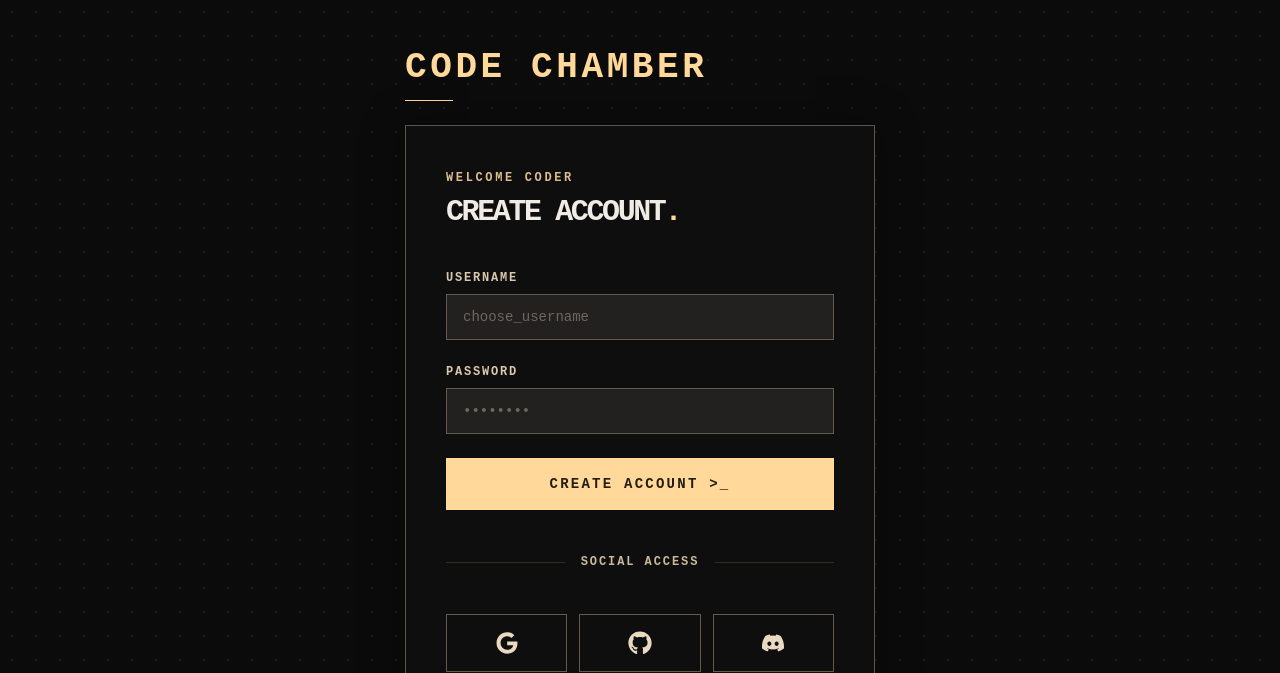
Test: Signup - manual submit › shows a fallback error message when the error has no message
The image size is (1280, 673).
Type "alice" into the field with placeholder "choose_username" at coordinates (640, 317), box [446,294,834,340]
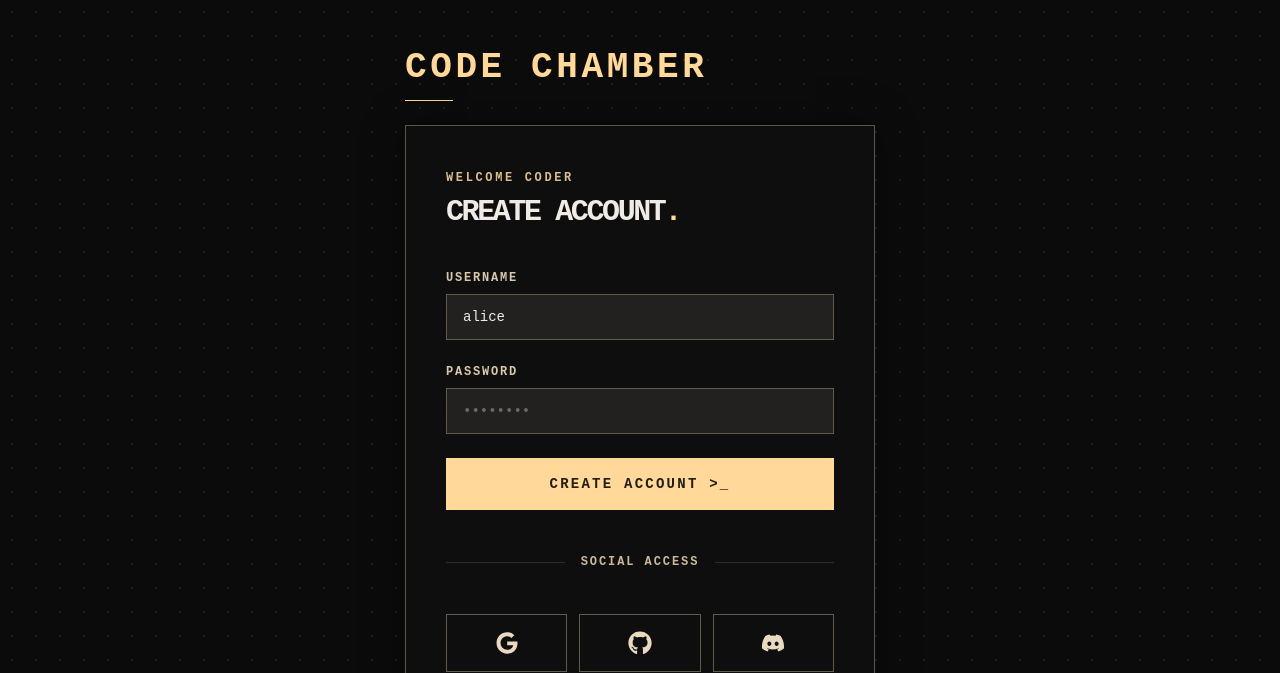
Type "hunter2" into the password field with placeholder "••••••••" at coordinates (640, 411), box [446,388,834,434]
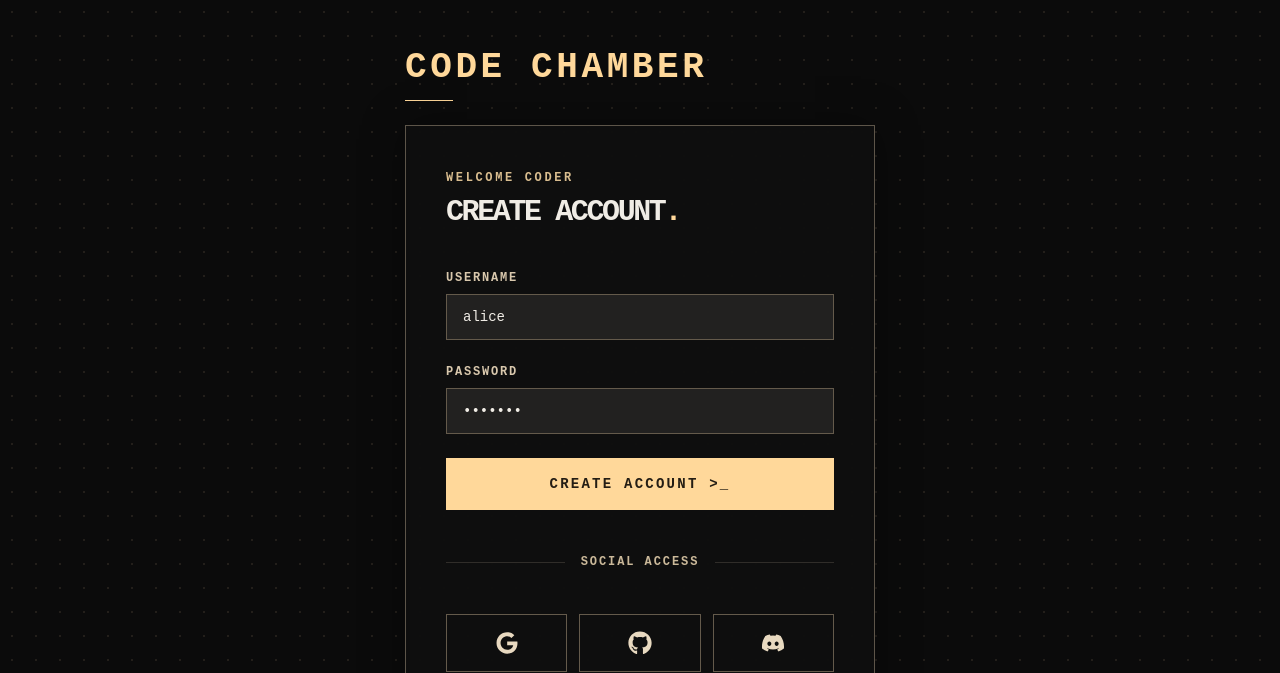
Click the button "CREATE ACCOUNT >_" at coordinates (640, 484), box [446,458,834,510]
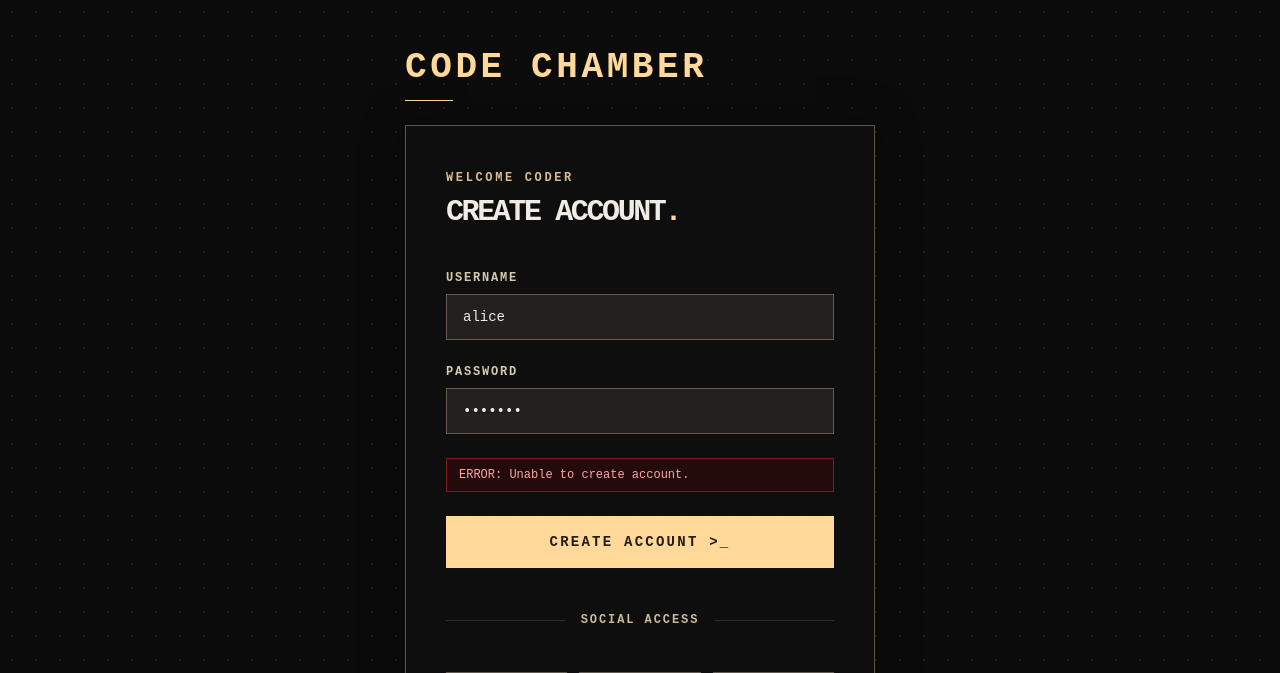
Check: the text "ERROR: Unable to create account." is shown, box [446,458,834,492]
